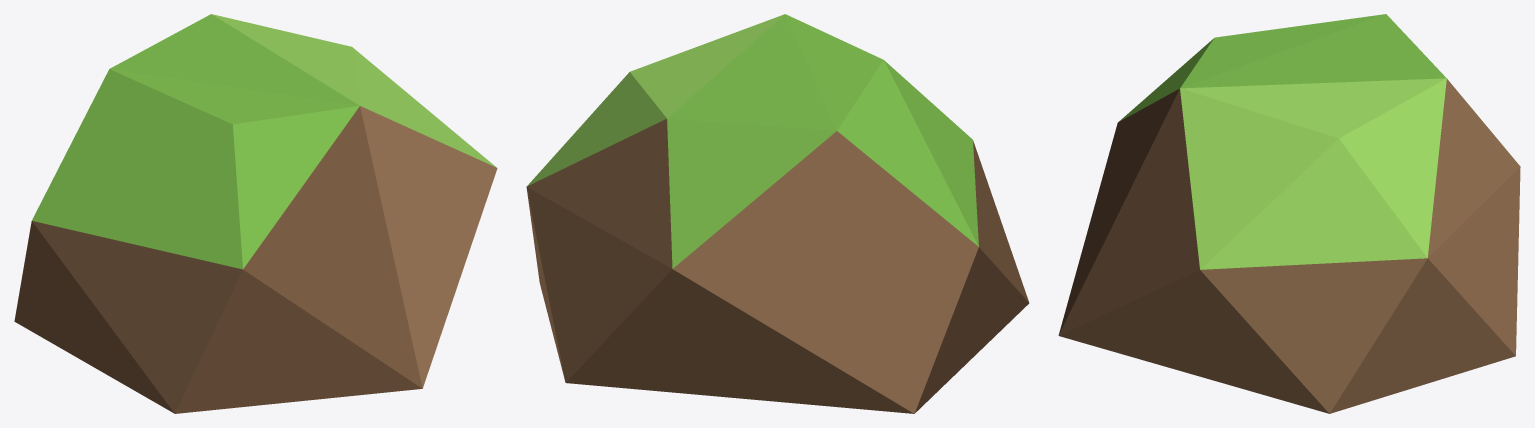
File: rock_smallB.glb
The picture shows the model from 3 angles, left to right: view 1: azimuth 30°, elevation 25°; view 2: azimuth 150°, elevation 25°; view 3: azimuth 270°, elevation 25°; orthographic projection. The views are drawn at different scales.
Visible parts, largest first — view 1: rock_smallB; view 2: rock_smallB; view 3: rock_smallB.
Boxes of the visible parts, left/top/right/bottom form: rock_smallB: left=14, top=14, right=497, bottom=413; rock_smallB: left=526, top=14, right=1029, bottom=413; rock_smallB: left=1058, top=14, right=1520, bottom=413.
Size of the model in its own units: 0.3192 by 0.177 by 0.3004.
Materials: 1 (1 with a texture image).
